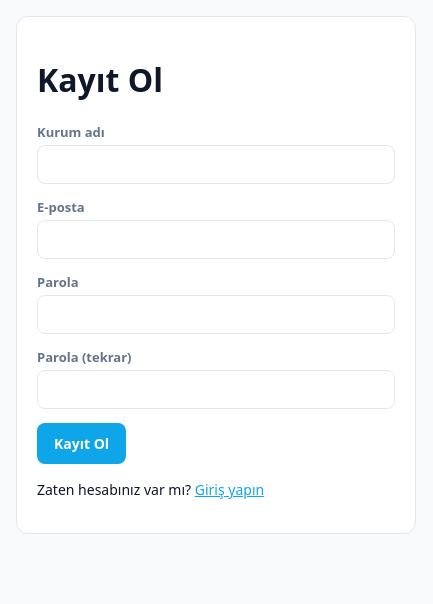
Register › e-posta zaten kayıtlıysa backend hatası gösterilir
In the field labelled "Kurum adı": (216, 164) top-left (37, 145), bottom-right (395, 184), type "Test Belediyesi"
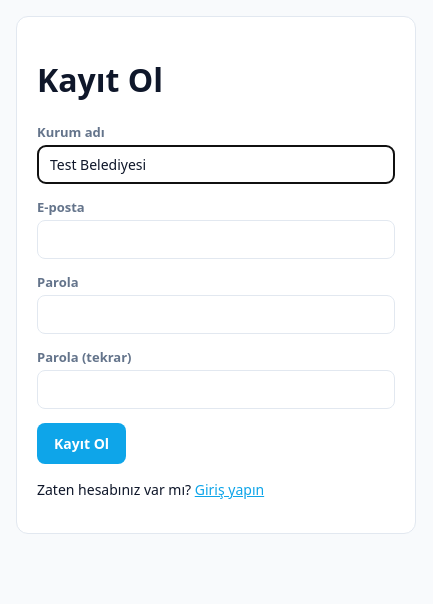
In the field labelled "E-posta": (216, 239) top-left (37, 220), bottom-right (395, 259), type "test@example.com"
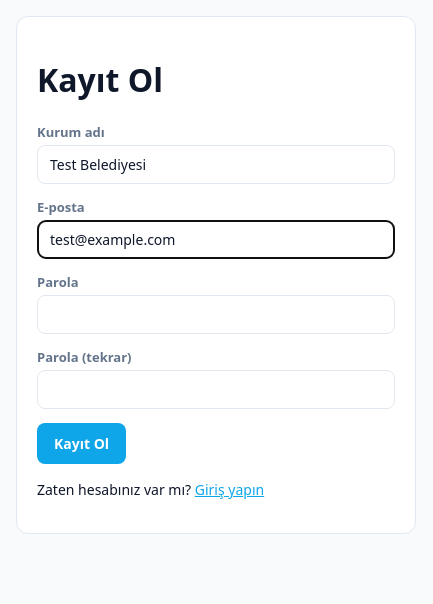
In the password field labelled "Parola": (216, 314) top-left (37, 295), bottom-right (395, 334), type "parola123"
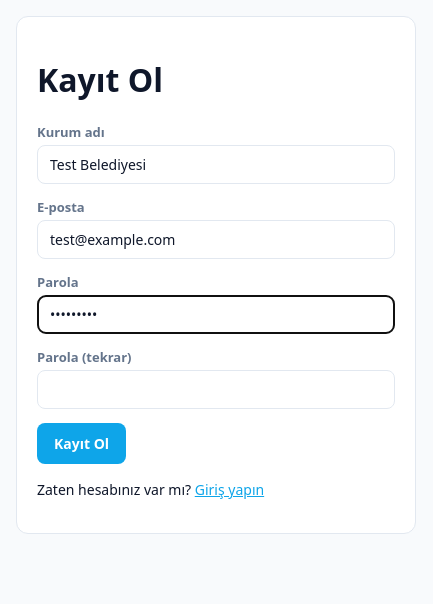
In the password field labelled "Parola (tekrar)": (216, 389) top-left (37, 370), bottom-right (395, 409), type "parola123"
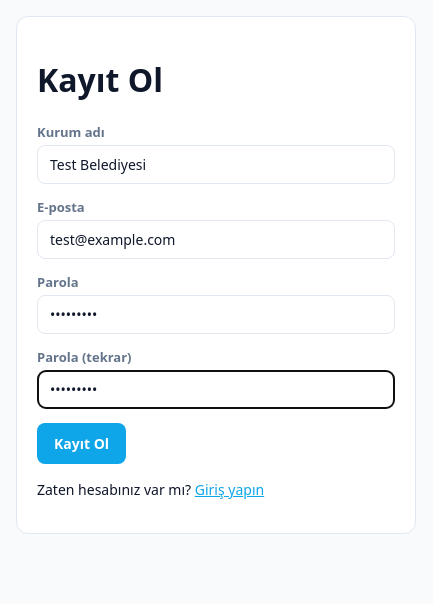
Click the button "Kayıt Ol": (82, 443) top-left (37, 423), bottom-right (126, 464)
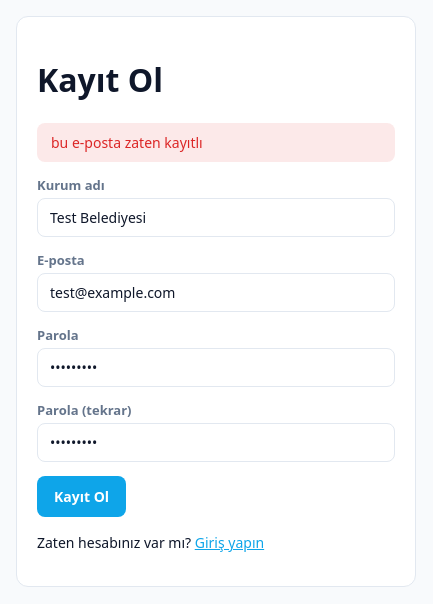
Result: the message reads "bu e-posta zaten kayıtlı" at top-left (51, 133), bottom-right (203, 152)
